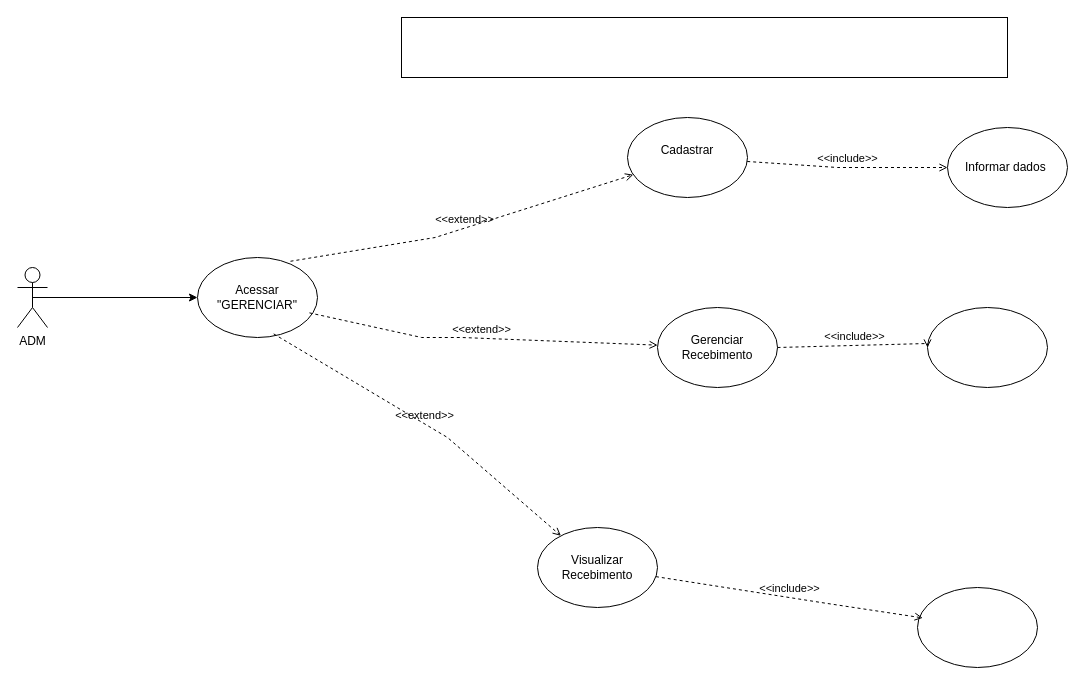
This 1085x685 diagram has some shape labels left out. Each missing label, with the centre of its shape:
CASO DE USO 7: (x=704, y=47)
Programar quantidade produtos: (x=987, y=347)
Visualização Tabela de recebimento: (x=977, y=627)
